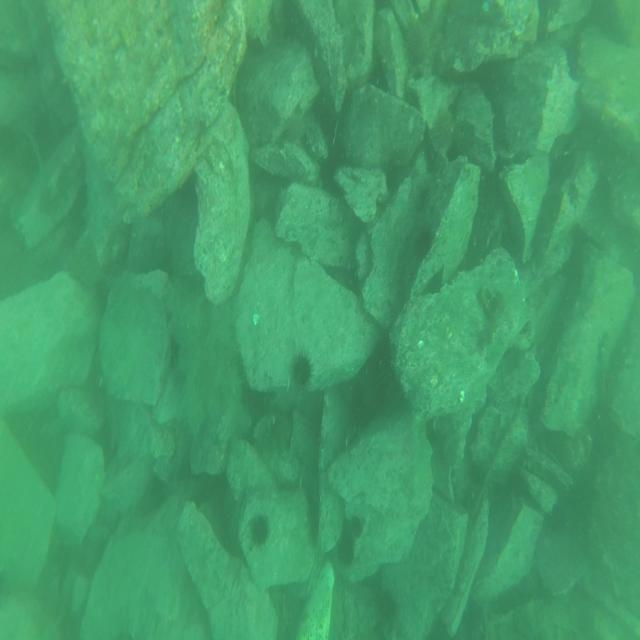echinus: (292, 352, 315, 388), (250, 512, 269, 548)
